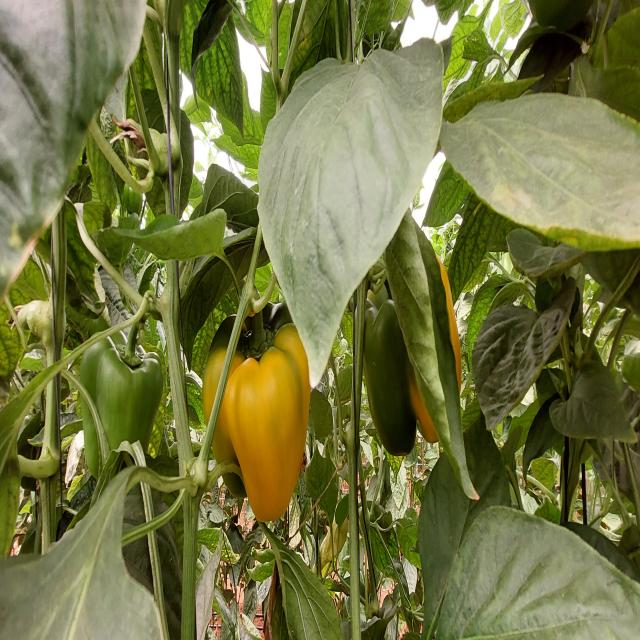Yellow-Ready-to-Harvest: (187, 335, 316, 527)
